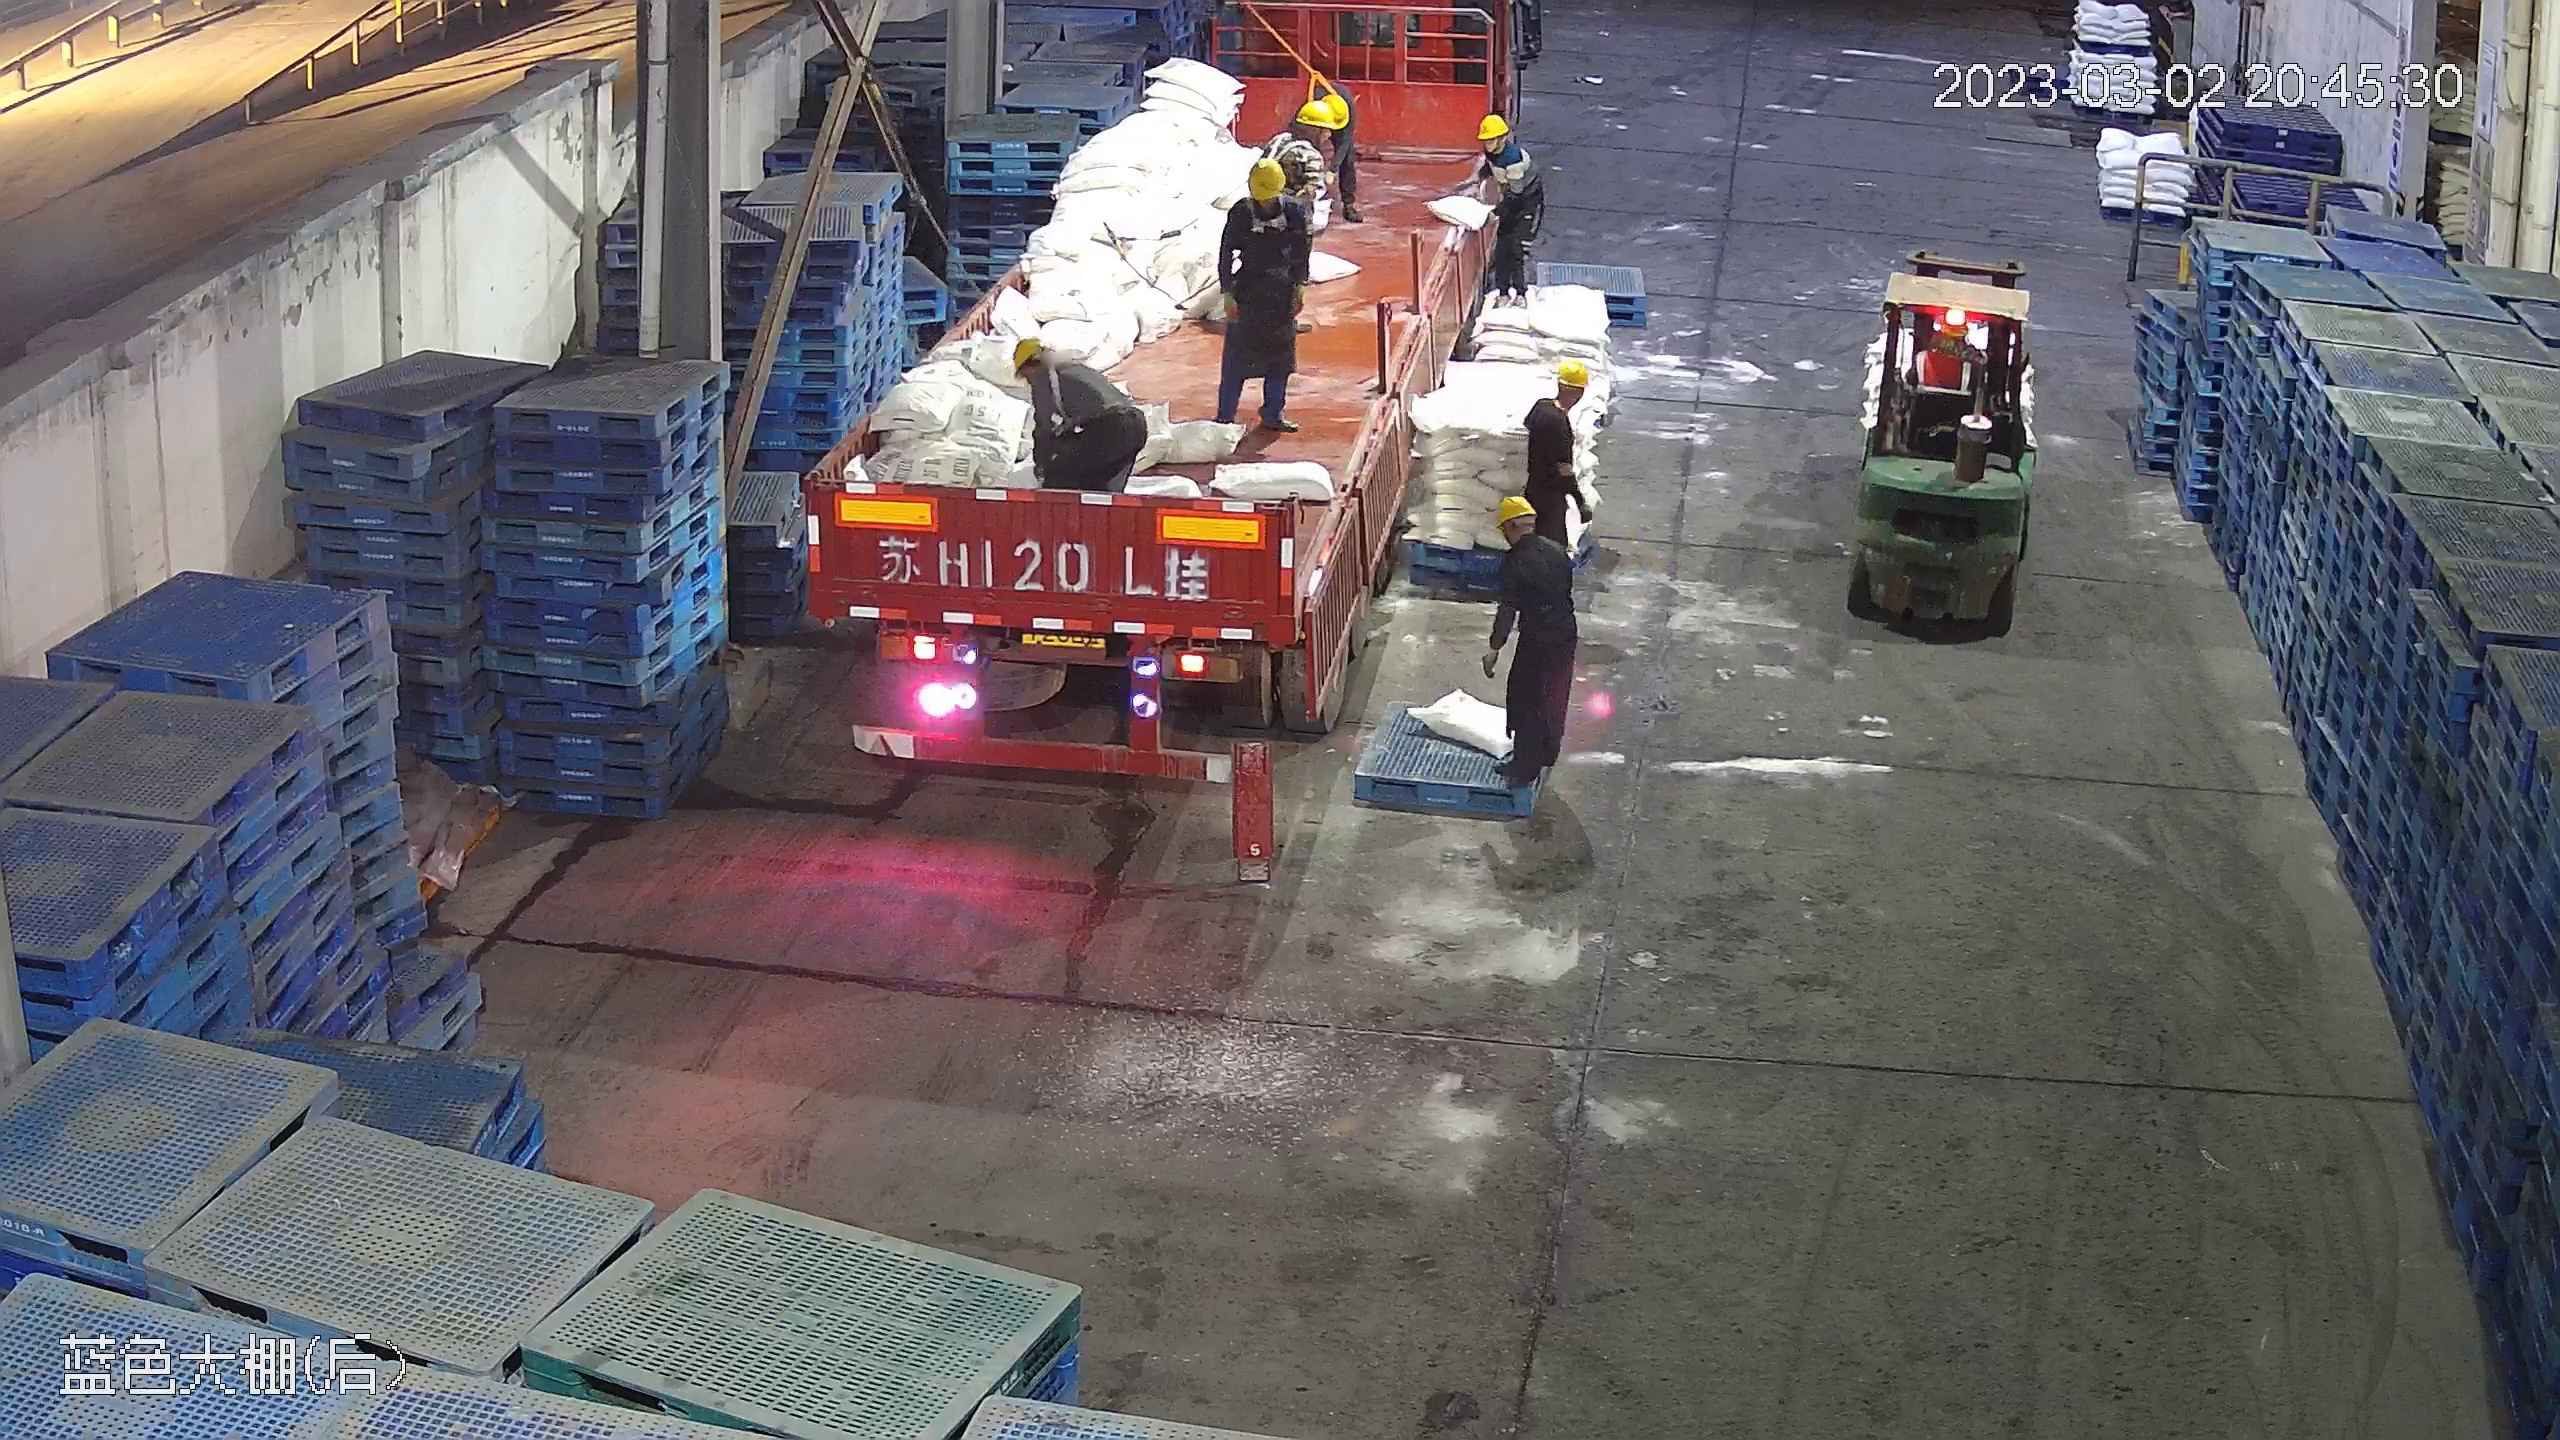belt: (1046, 354, 1116, 412), (1239, 189, 1299, 239), (1258, 132, 1316, 177), (1299, 68, 1346, 108), (1305, 64, 1339, 101)
head: (1219, 154, 1309, 239), (1492, 492, 1571, 586), (1007, 337, 1096, 413), (1527, 357, 1594, 436), (1266, 99, 1338, 172), (1471, 112, 1534, 182)
helmet: (1246, 153, 1288, 201), (1009, 335, 1049, 380), (1494, 492, 1537, 530), (1553, 357, 1593, 388), (1294, 100, 1335, 129), (1473, 111, 1509, 141), (1329, 94, 1351, 131)
people: (1210, 151, 1311, 440), (1482, 492, 1576, 792), (1008, 333, 1145, 503), (1462, 109, 1544, 320), (1524, 354, 1601, 564), (1278, 77, 1363, 223)
truck: (818, 27, 1498, 774)
